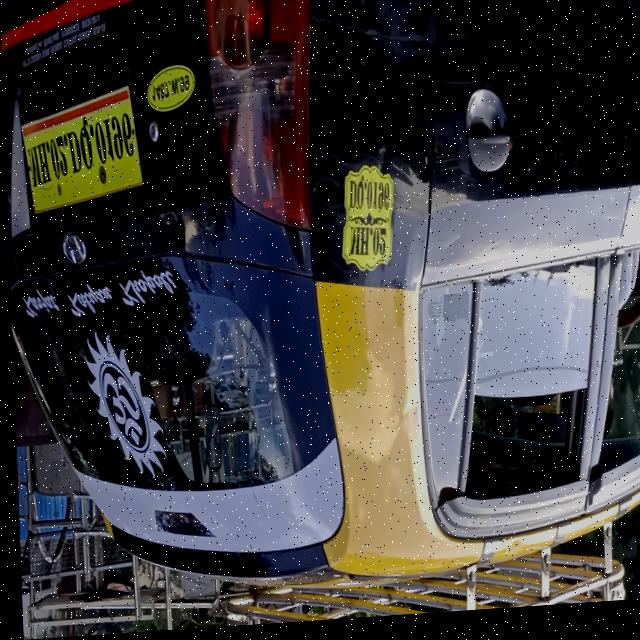plate: (17, 83, 144, 224), (332, 163, 402, 284)
